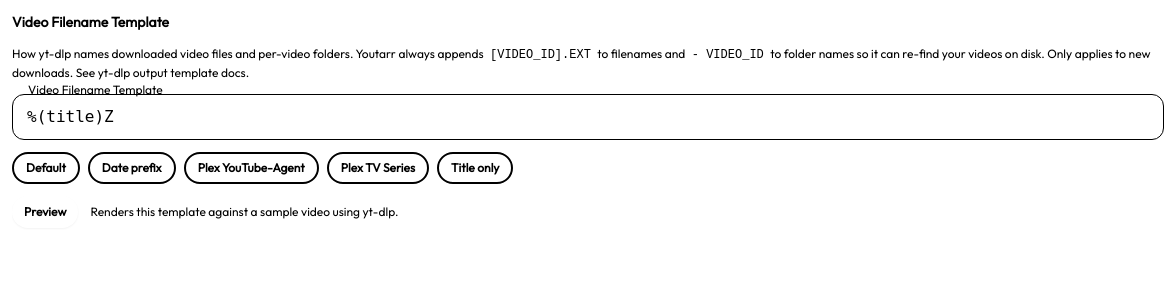
Scenario: VideoFilenameTemplate › shows the yt-dlp error message verbatim when the server returns 400
Click the button with test id "filename-preview-button". click: point(45, 212)
box: [12,196,78,228]
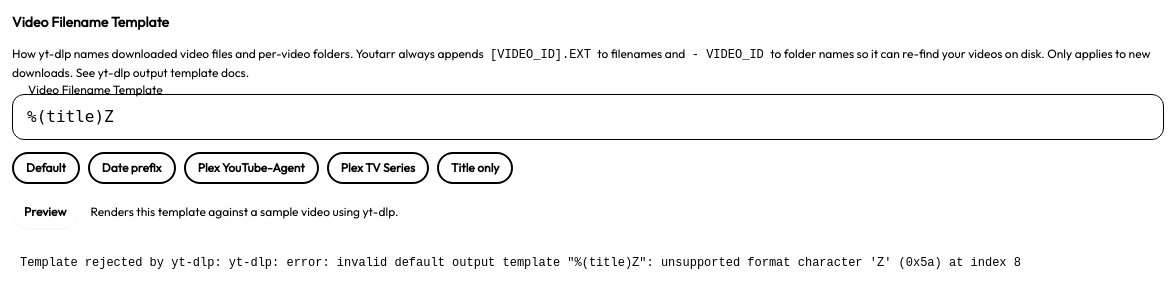
expect the element with test id "filename-preview-error" shows "unsupported format character": met, box [20,256,1021,270]
